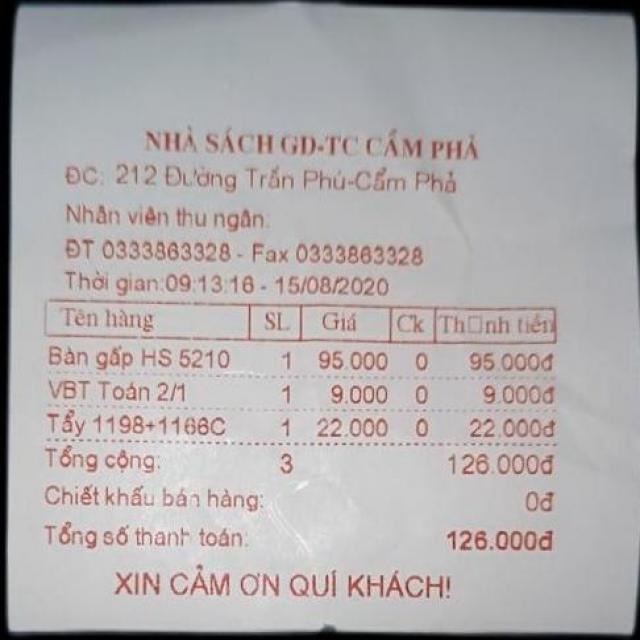Date: (271, 271, 409, 300)
Store_Name: (129, 105, 490, 168)
Total_Amount: (36, 516, 559, 562)
